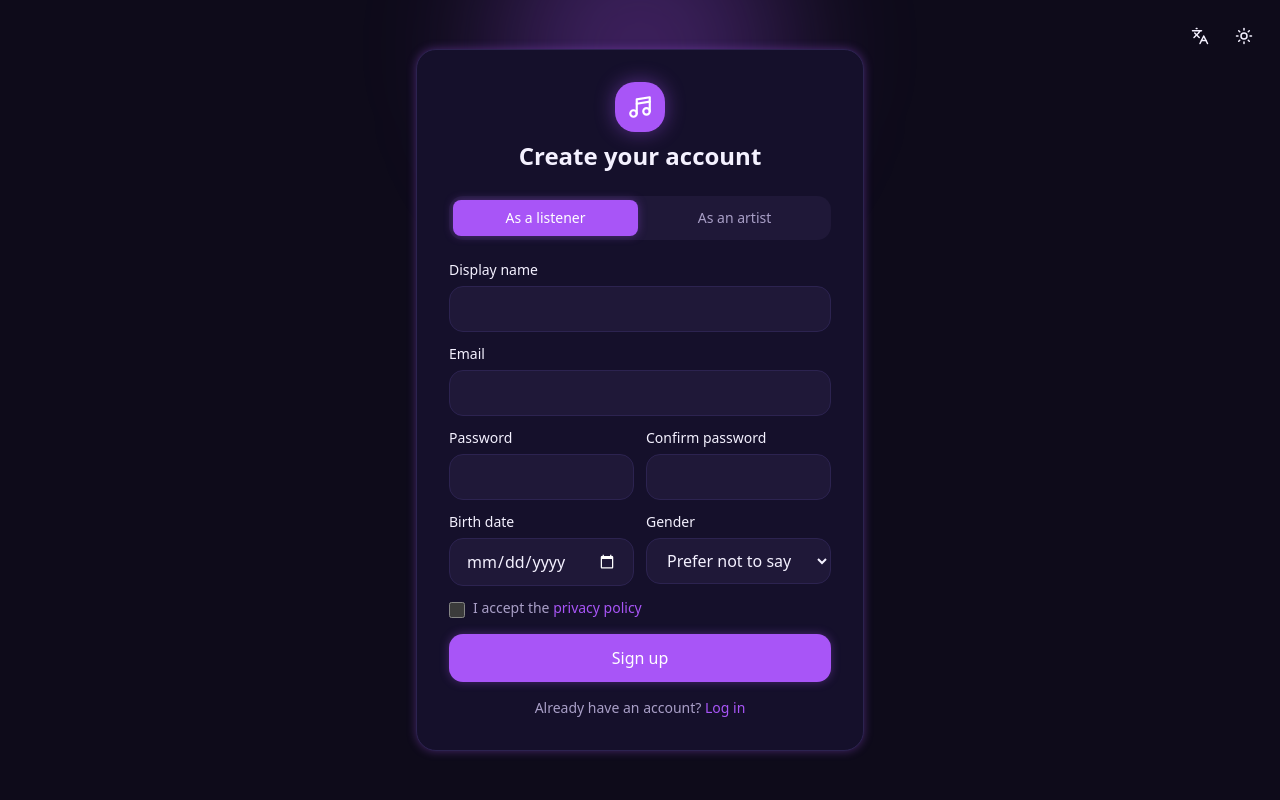
Test: RegisterPage › opens the privacy policy modal from the inline link
The width and height of the screenshot is (1280, 800).
Click the button "privacy policy" at (597, 608), box [553,598,642,618]
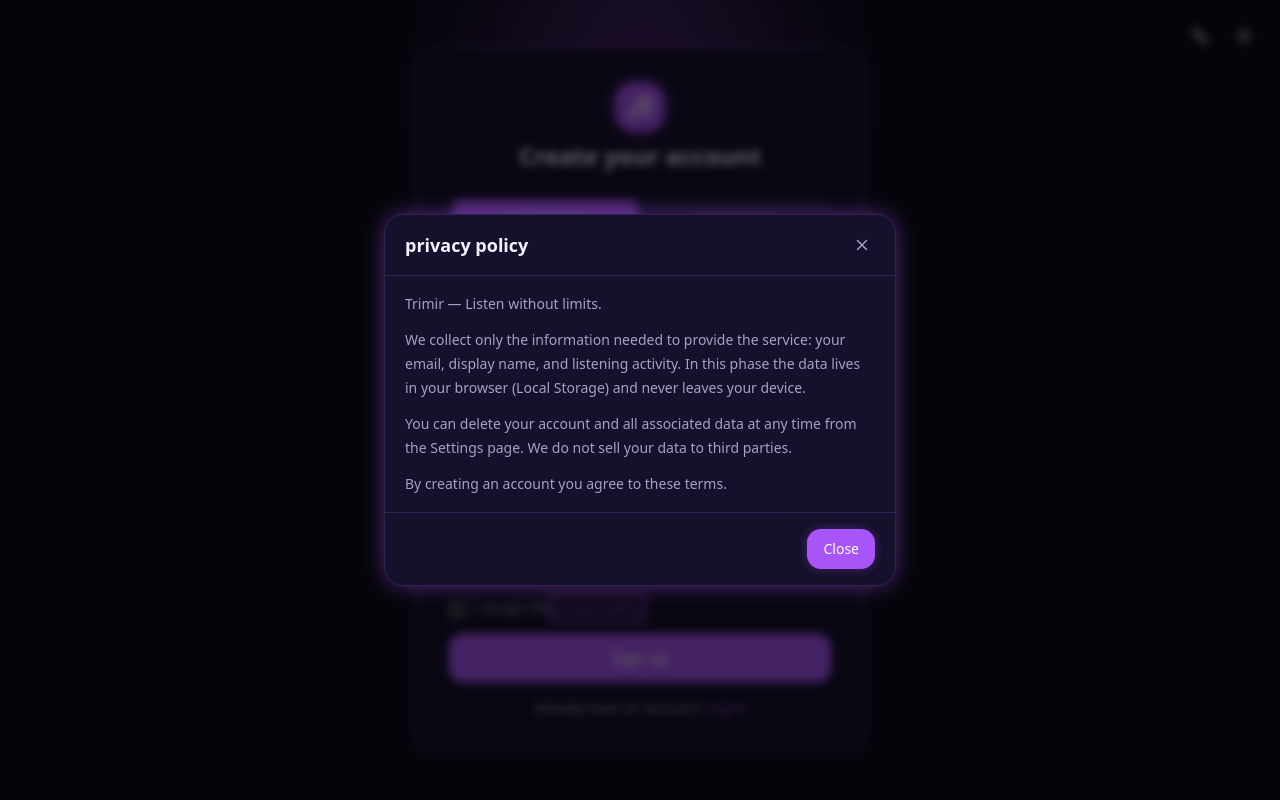
Expected: the dialog is shown, [384,214,896,586]
